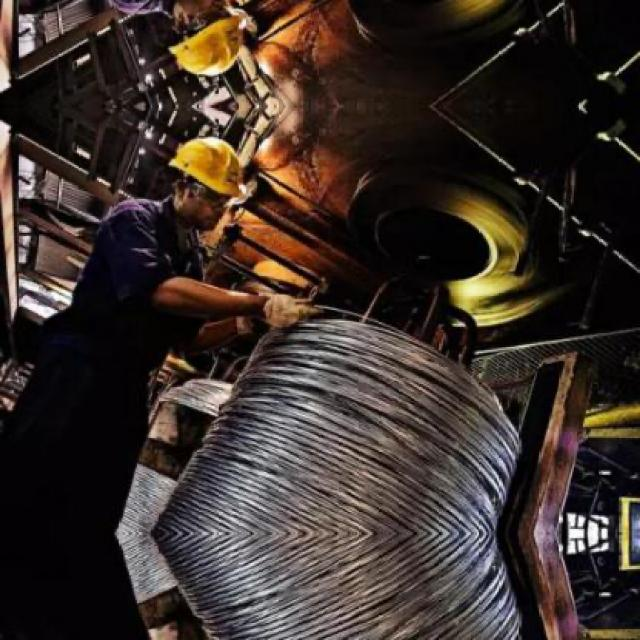2: (3, 139, 295, 532), (2, 536, 296, 638)
helmet: (154, 128, 248, 234), (154, 0, 250, 86)
